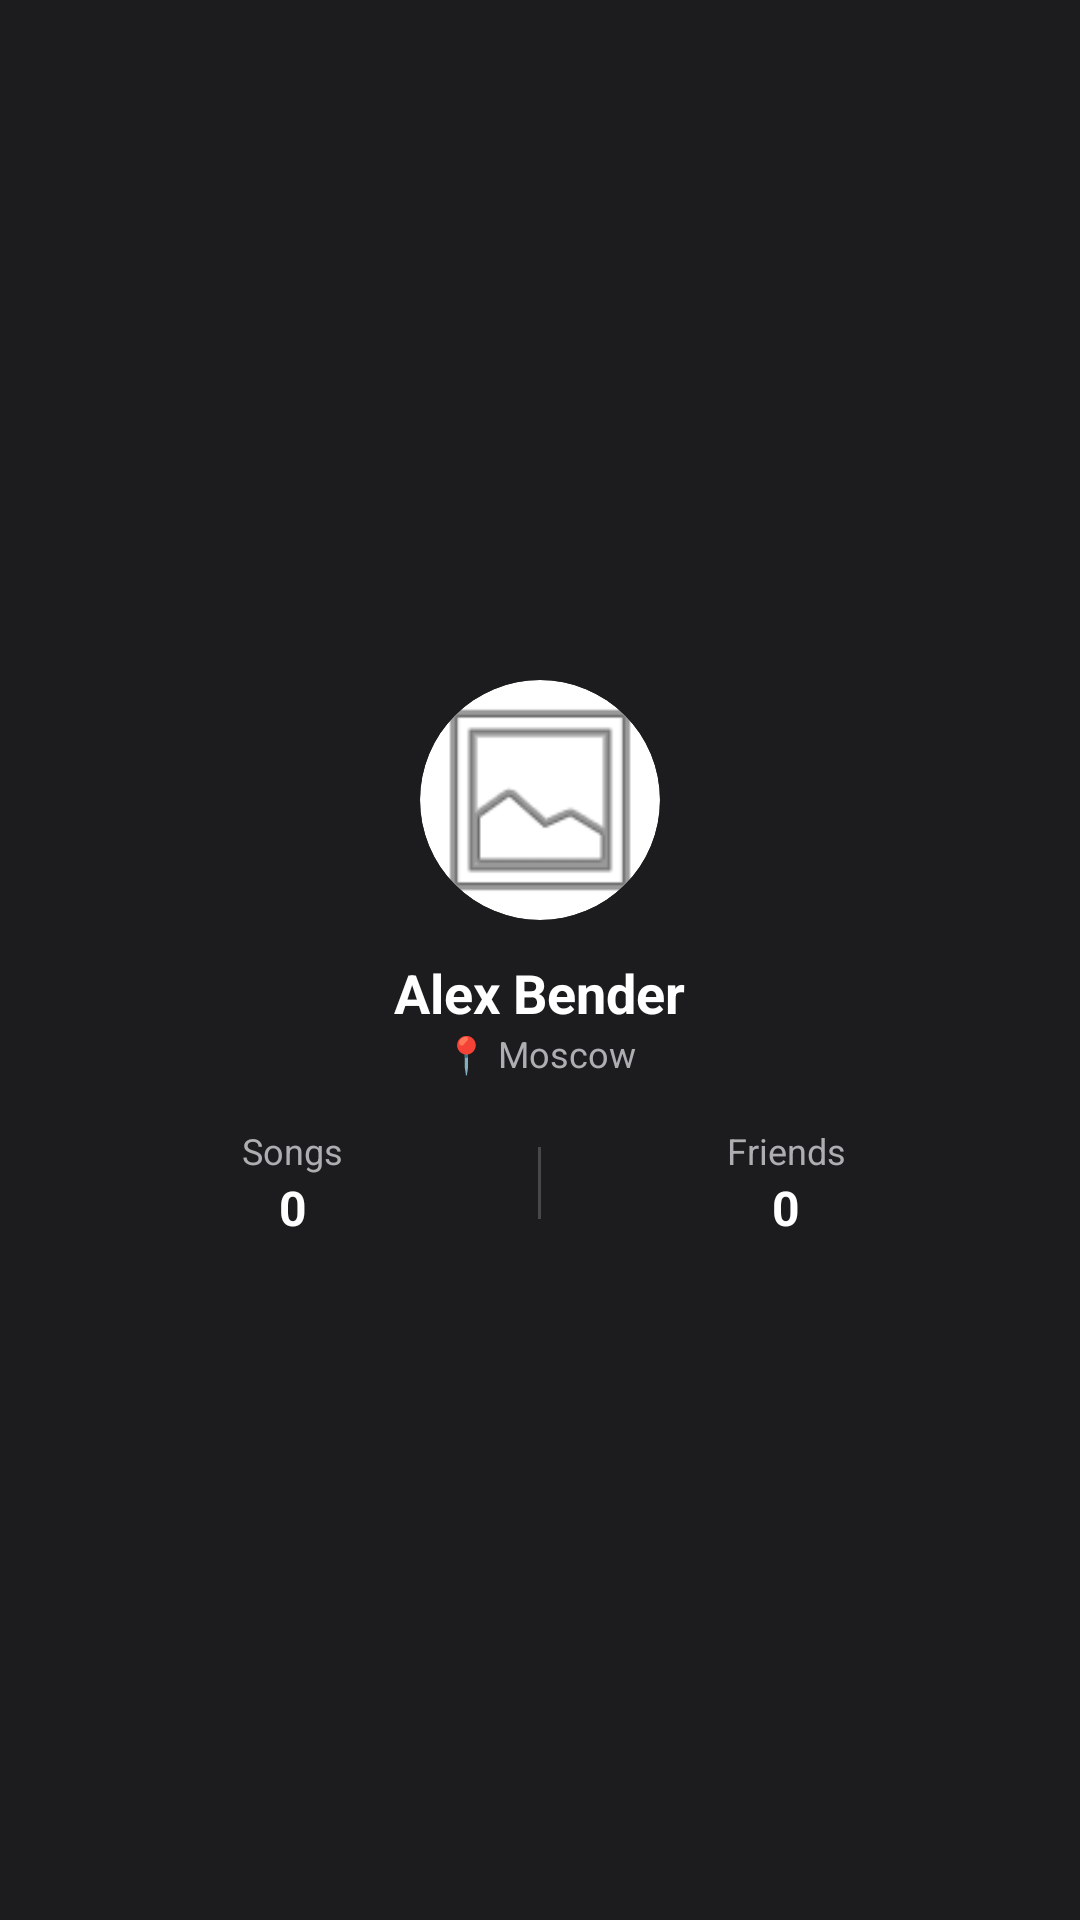

Named icons in this screenshot (1080*1920) and their bounding boxes, rect(x1, y1, x2, y2):
gallery: rect(420, 680, 660, 920)
